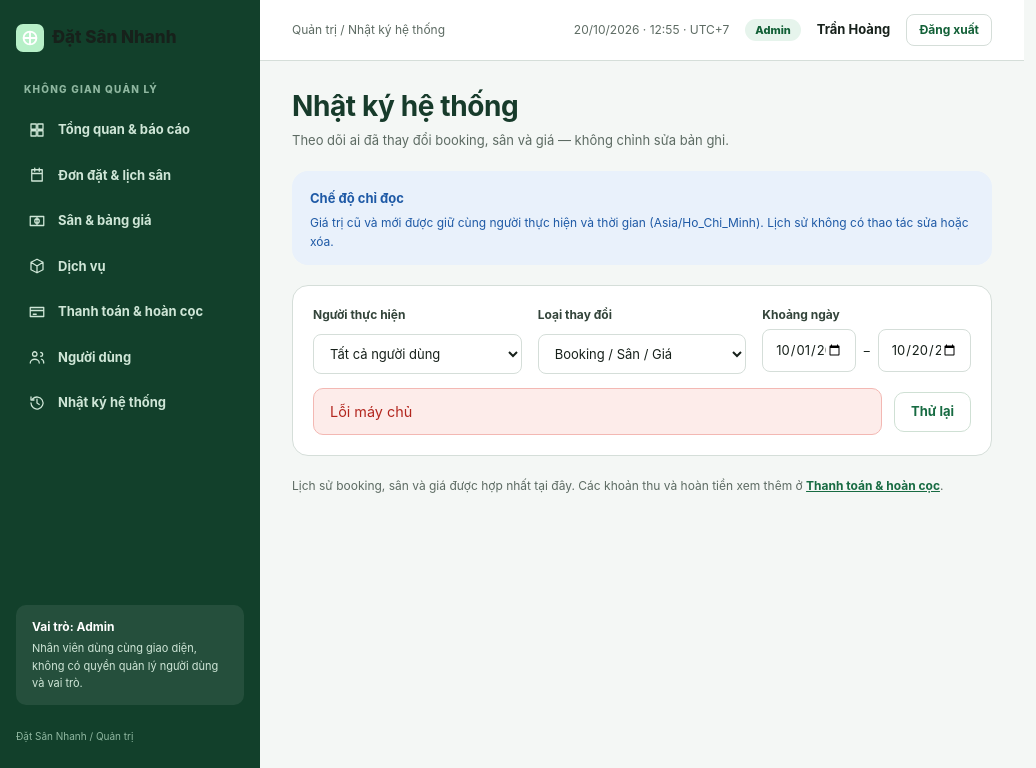
AdminSystemLogsPage › lỗi tải thì có nút Thử lại
Expected: the text "Lỗi máy chủ" is shown, [313,388,882,436]
Click the button "Thử lại".
click(932, 412)  # box [894,392,971,432]
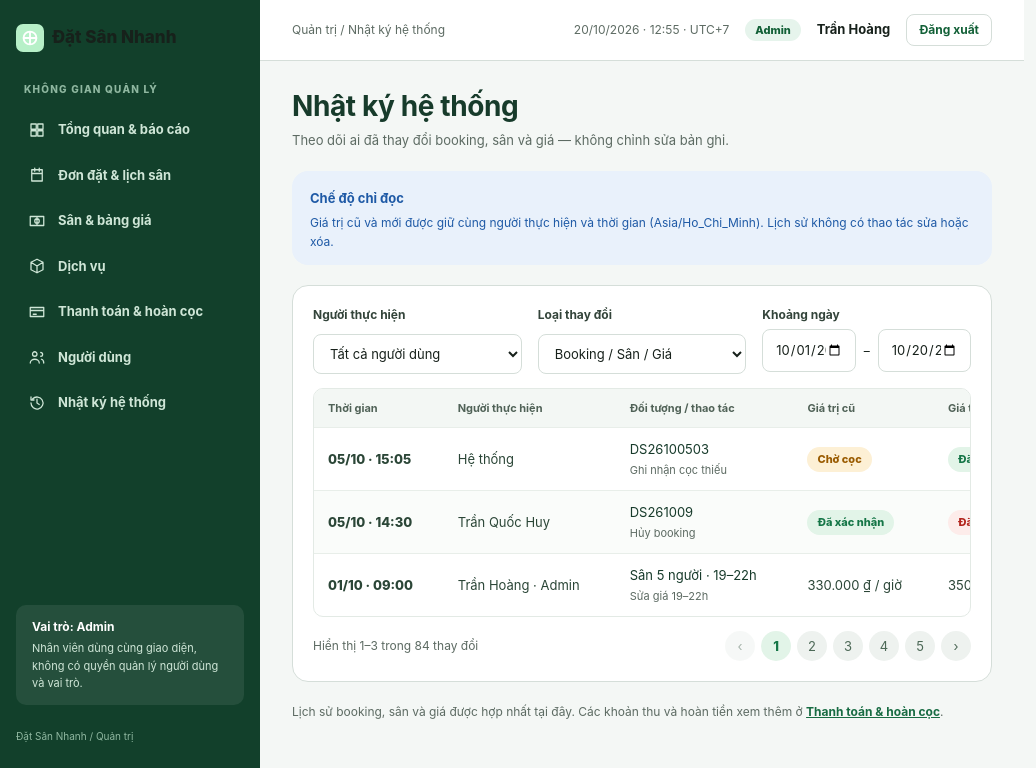
Now the text "DS26100503" is shown, box [630,441,709,457]
